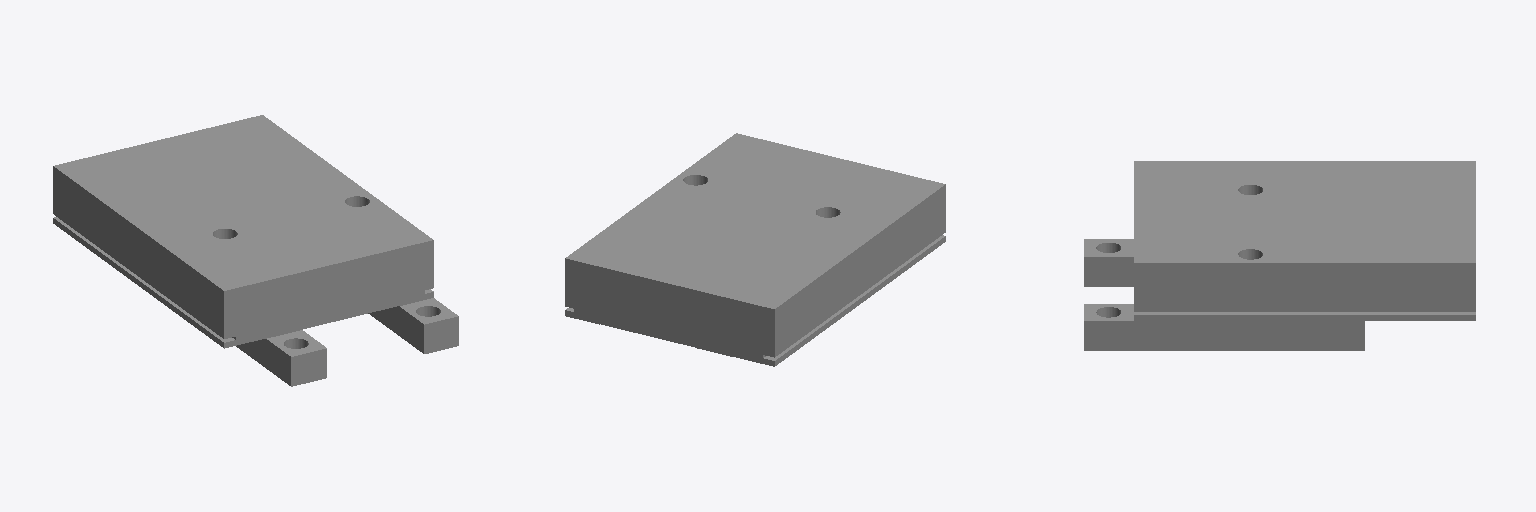
File: Zadapterplate.obj
The picture shows the model from 3 angles: view 1: azimuth 30°, elevation 25°; view 2: azimuth 150°, elevation 25°; view 3: azimuth 270°, elevation 25°; orthographic projection.
Parts seen in each view (by area): view 1: adapterplate-z; view 2: adapterplate-z; view 3: adapterplate-z.
Part boxes in pixels (bbox=[...]): adapterplate-z: bbox=[53, 115, 458, 386]; adapterplate-z: bbox=[565, 133, 945, 366]; adapterplate-z: bbox=[1084, 161, 1475, 350].
Size of the model in its own units: 145 by 58 by 235.